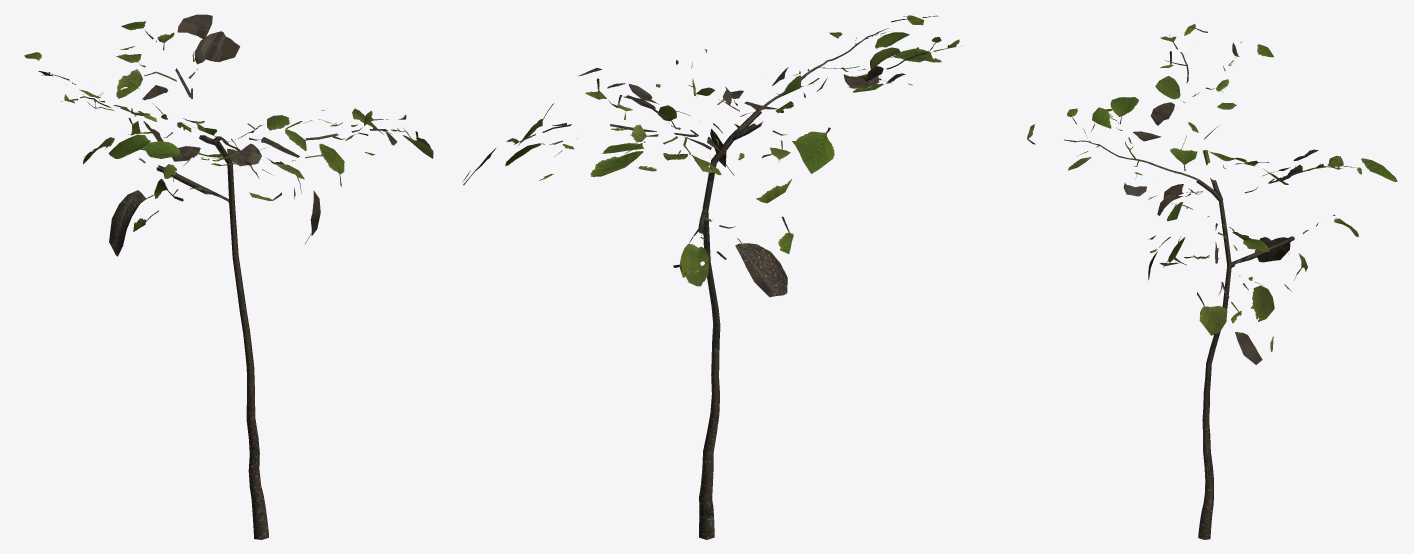
The model's file is SM_BlackAlder_Sapling_01_PP_LOD1.gltf.
3 views of the same model, side by side, from view 1: azimuth 30°, elevation 25°; view 2: azimuth 150°, elevation 25°; view 3: azimuth 270°, elevation 25° (orthographic). The views are drawn at different scales.
Visible parts, largest first — view 1: SM_BlackAlder_Sapling_01_PP; view 2: SM_BlackAlder_Sapling_01_PP; view 3: SM_BlackAlder_Sapling_01_PP.
Part boxes in pixels (x1,y1,x2,y2): SM_BlackAlder_Sapling_01_PP: (24, 14, 433, 539); SM_BlackAlder_Sapling_01_PP: (463, 15, 962, 539); SM_BlackAlder_Sapling_01_PP: (1027, 24, 1397, 539).
Size of the model in its own units: 0.8922 by 0.9831 by 0.7781.
Materials: 1 (1 with a texture image).
